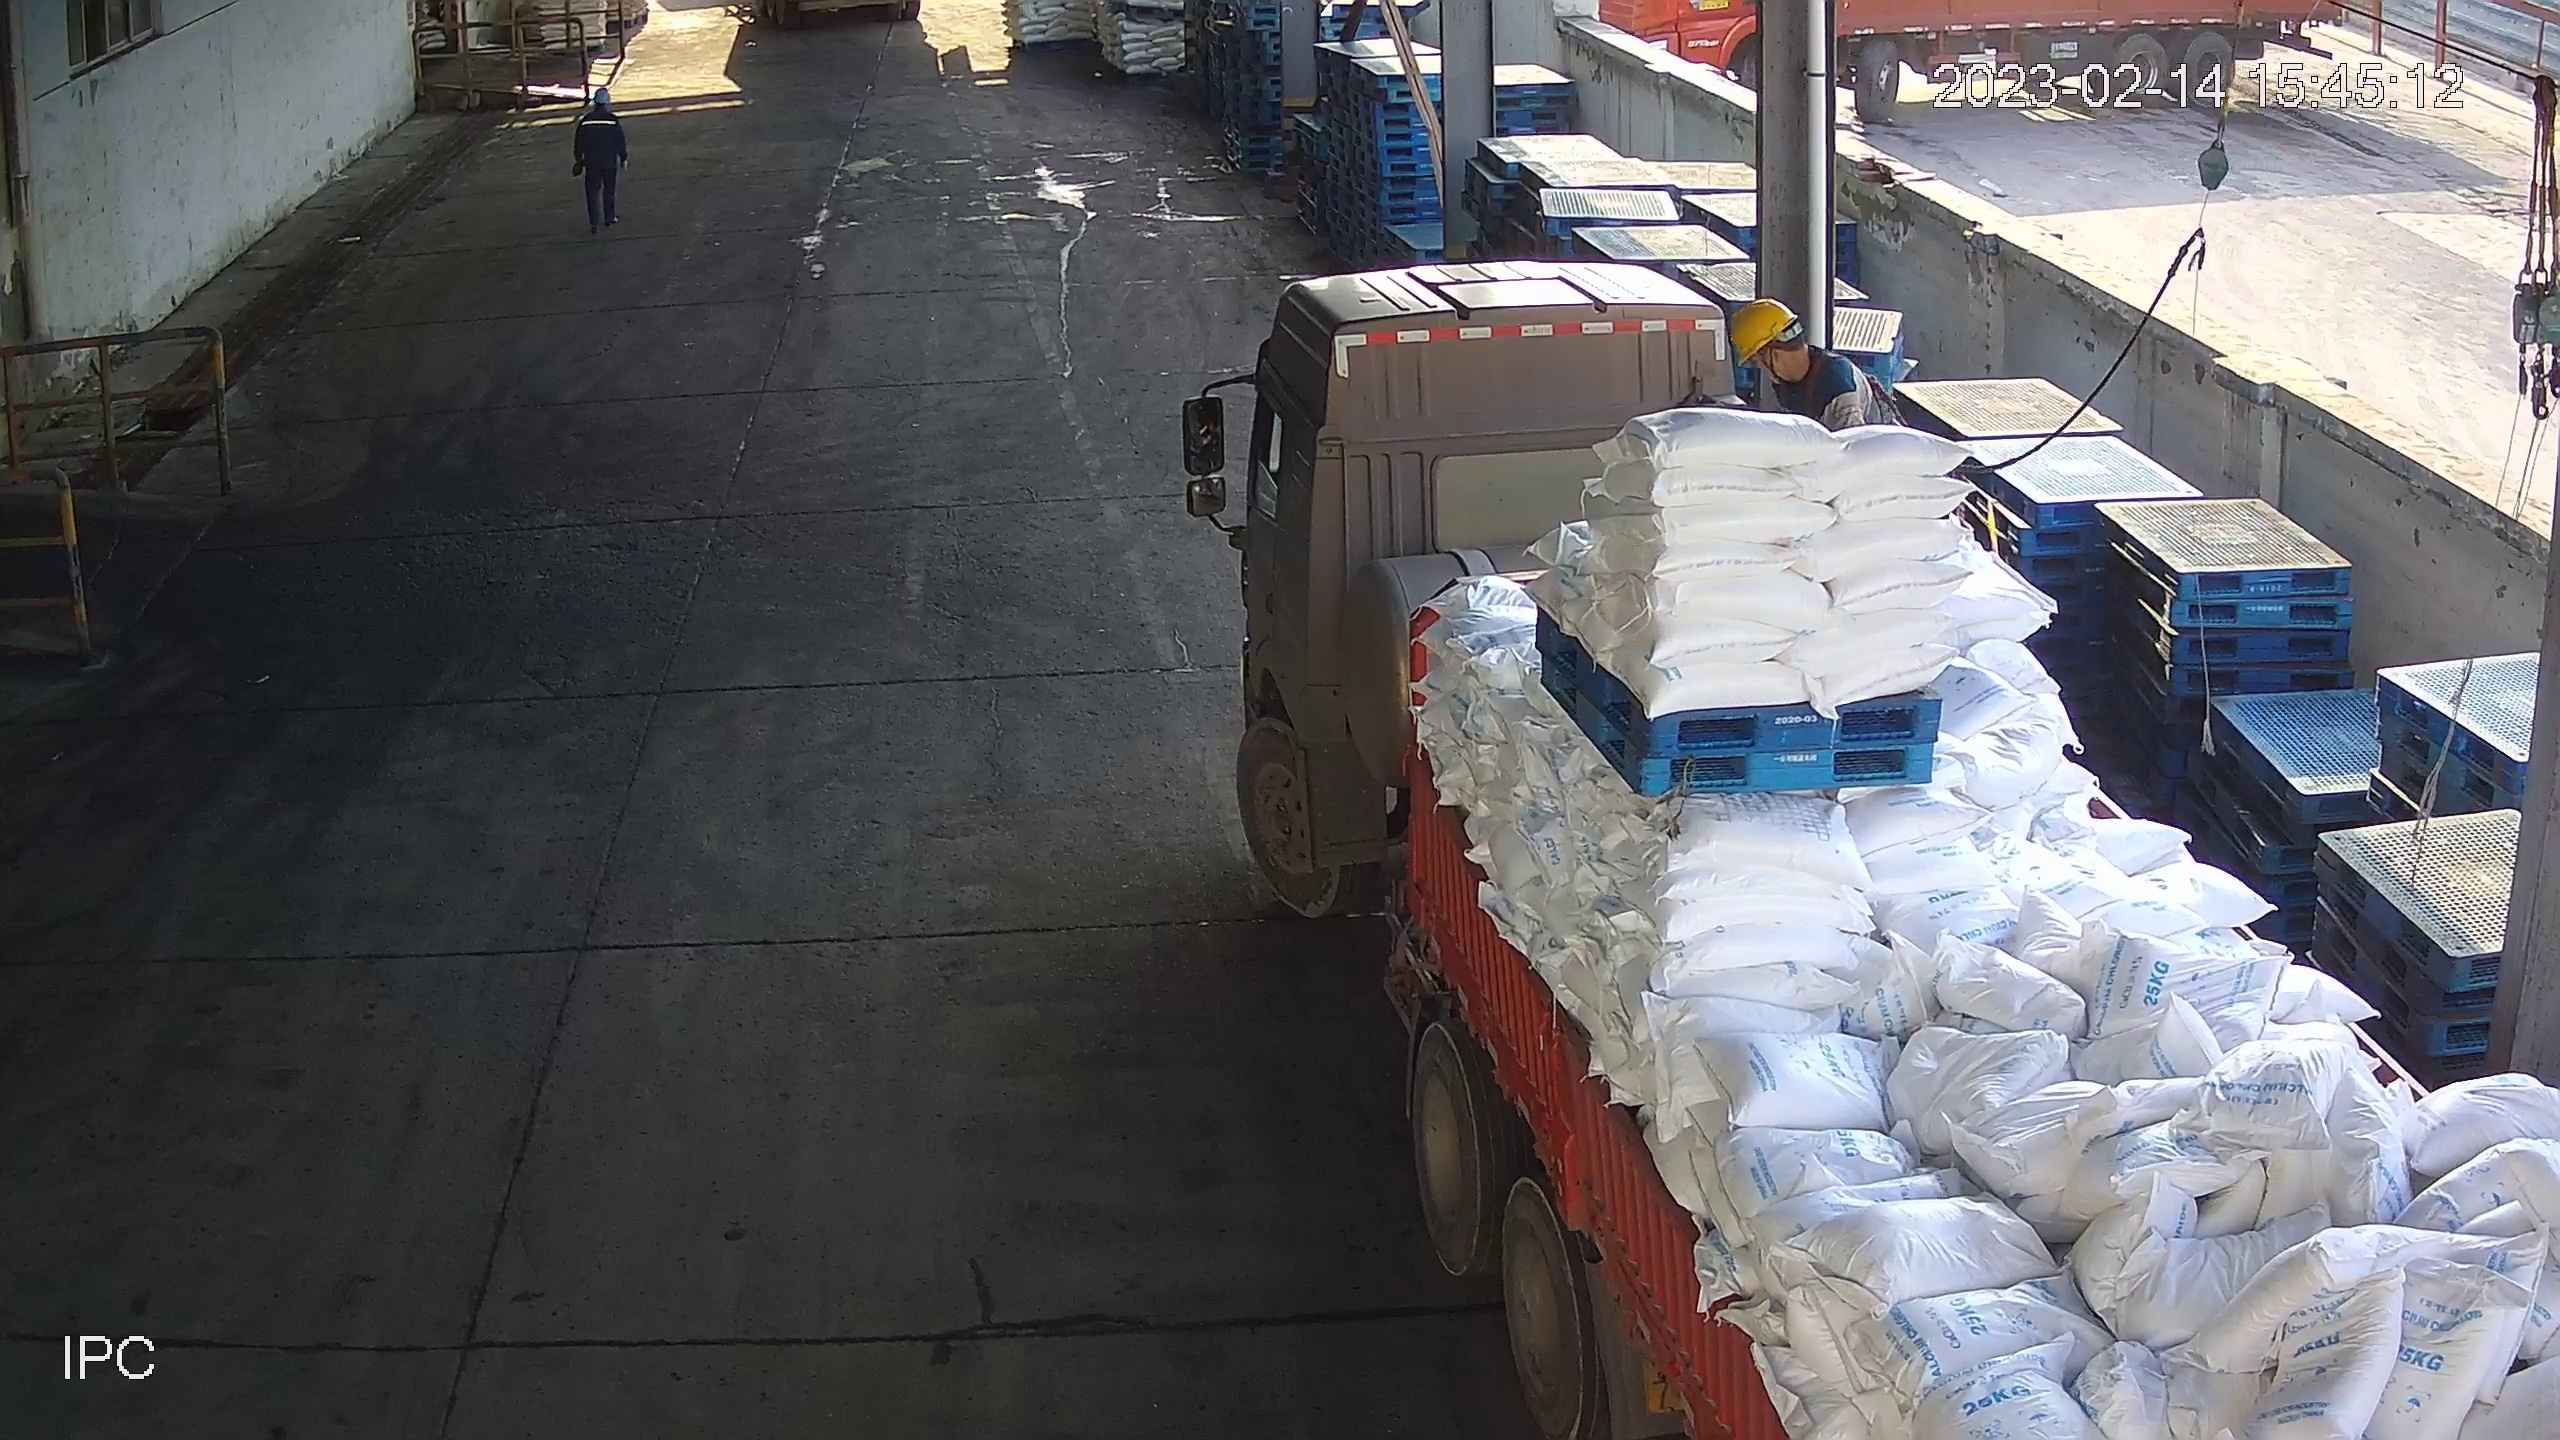belt: (1779, 355, 1856, 423)
head: (1727, 301, 1862, 409), (577, 90, 618, 132)
helmet: (1727, 299, 1795, 367), (588, 88, 609, 104)
people: (569, 86, 630, 236)
truck: (1186, 258, 2560, 1440)
